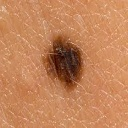Melanoma: (43, 37, 84, 87)
